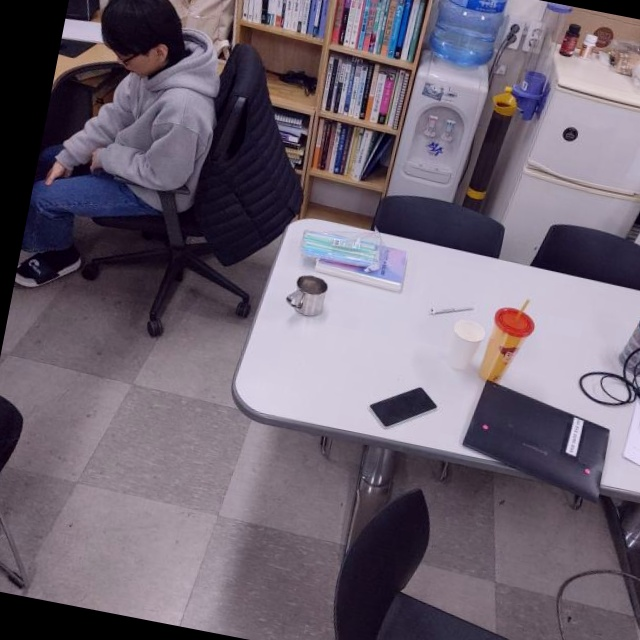cup: (281, 271, 330, 323)
phone: (369, 377, 441, 438)
